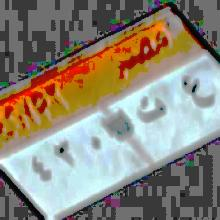0: (87, 127, 103, 158)
3: (53, 137, 75, 173)
4: (31, 149, 51, 195)
ain: (180, 70, 216, 114)
taa: (134, 91, 167, 128)
